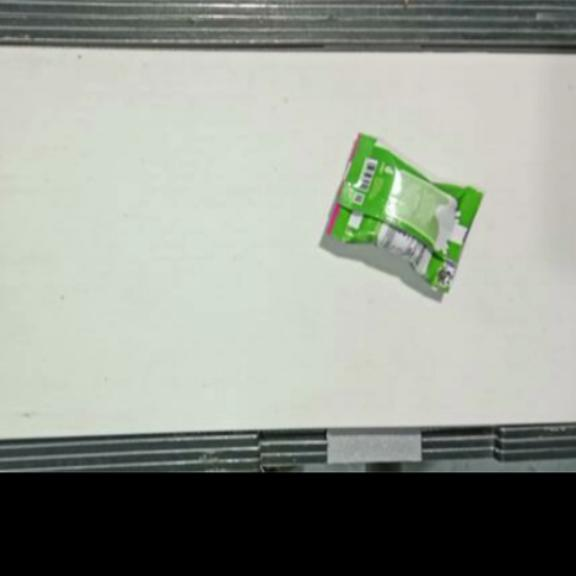Plastik: (325, 134, 484, 290)
